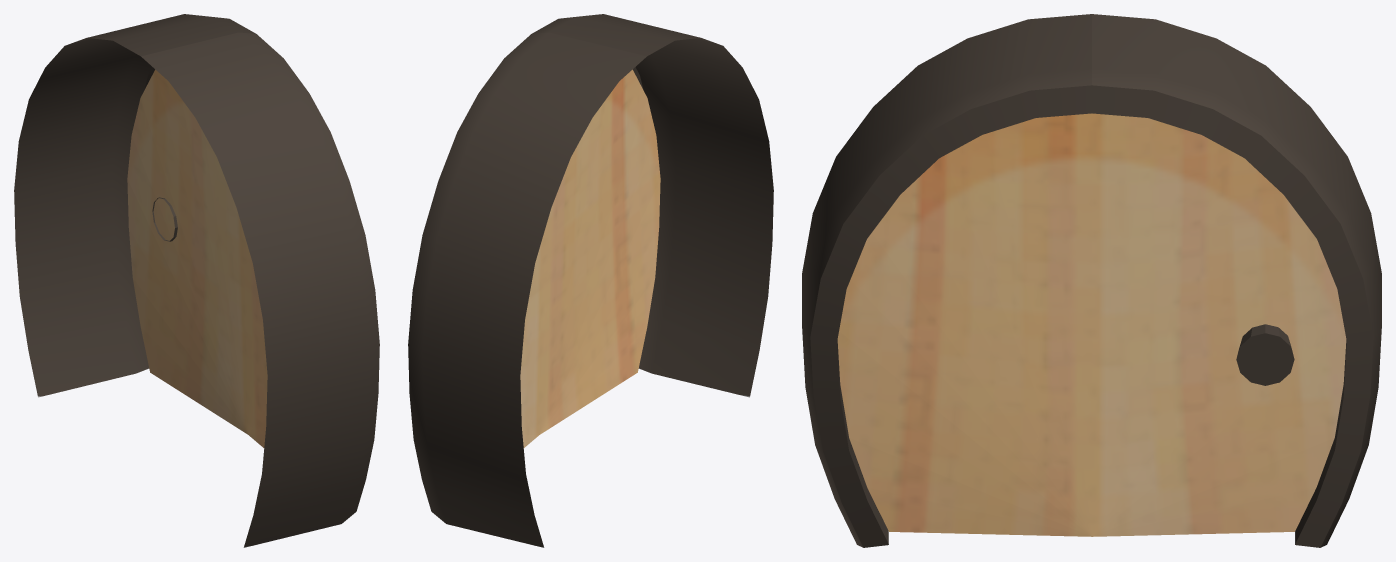
Rendered from door.fbx.
3 views of the same model, side by side, from view 1: azimuth 30°, elevation 25°; view 2: azimuth 150°, elevation 25°; view 3: azimuth 270°, elevation 25° (orthographic). The views are drawn at different scales.
Visible parts, largest first — view 1: polySurface10; view 2: polySurface10; view 3: polySurface10.
Boxes of the visible parts, x1,y1,x2,y2 form: polySurface10: (14, 14, 379, 547); polySurface10: (408, 14, 773, 547); polySurface10: (802, 14, 1381, 547).
Size of the model in its own units: 2.05 by 6.7 by 7.39.
